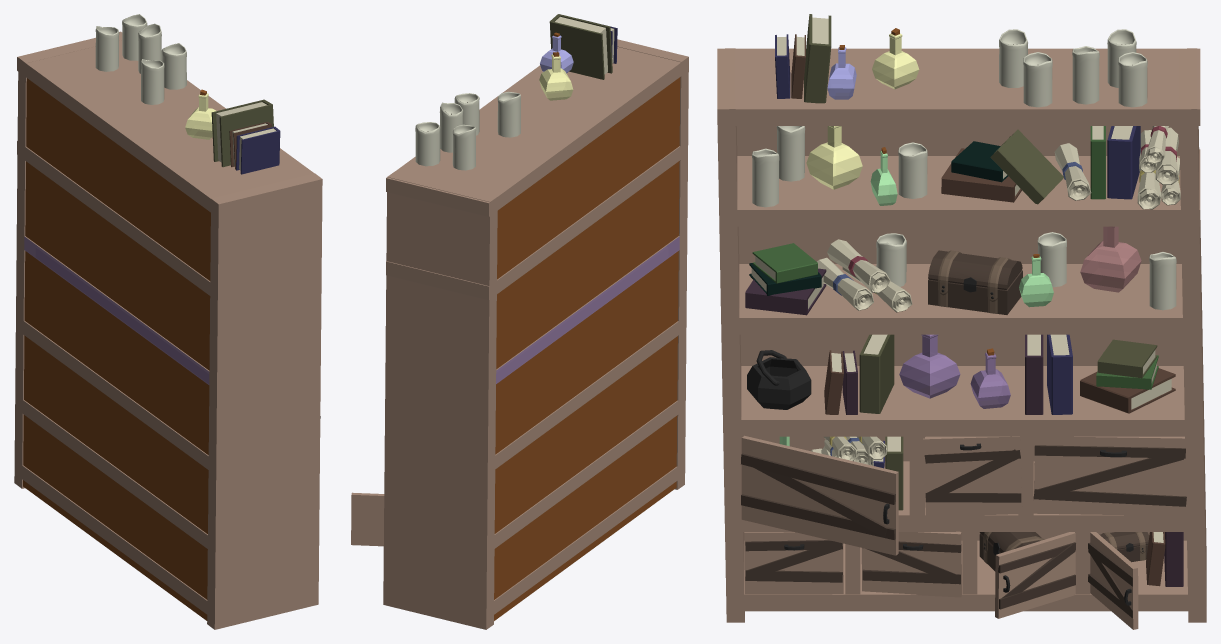
File: tallBookShelf.fbx
3 renders of one model, left to right at view 1: azimuth 30°, elevation 25°; view 2: azimuth 150°, elevation 25°; view 3: azimuth 270°, elevation 25°, orthographic. The views are drawn at different scales.
Parts seen in each view (by area): view 1: pCube16, book6, book5, candle18, candle17, candle1, potion14, candle2, candle3, book7; view 2: pCube16, book6, candle3, candle18, candle1, potion14, candle2, candle17, potion13; view 3: pCube16, chest3, scrollBundle4, cauldron, book8, potion5, book18, potion15, polySurface1361, potion7, book6, book23 (+38 smaller).
Boxes of the visible parts, left/top/right/bottom form: pCube16: left=14, top=31, right=322, bottom=629; book6: left=211, top=99, right=273, bottom=167; book5: left=236, top=126, right=280, bottom=174; candle18: left=141, top=59, right=164, bottom=104; candle17: left=161, top=43, right=186, bottom=89; candle1: left=95, top=26, right=119, bottom=71; potion14: left=185, top=89, right=216, bottom=139; candle2: left=138, top=23, right=161, bottom=73; candle3: left=122, top=14, right=147, bottom=60; book7: left=229, top=122, right=271, bottom=169; pCube16: left=351, top=39, right=688, bottom=629; book6: left=549, top=14, right=612, bottom=79; candle3: left=415, top=122, right=440, bottom=166; candle18: left=497, top=91, right=520, bottom=137; candle1: left=452, top=124, right=476, bottom=170; potion14: left=539, top=52, right=573, bottom=100; candle2: left=439, top=102, right=463, bottom=152; candle17: left=454, top=93, right=479, bottom=135; potion13: left=540, top=32, right=573, bottom=73; pCube16: left=717, top=48, right=1206, bottom=629; chest3: left=928, top=250, right=1022, bottom=314; scrollBundle4: left=817, top=239, right=912, bottom=312; cauldron: left=747, top=350, right=811, bottom=409; book8: left=990, top=129, right=1064, bottom=204; potion5: left=1080, top=226, right=1141, bottom=292; book18: left=859, top=334, right=894, bottom=413; potion15: left=899, top=334, right=960, bottom=398; polySurface1361: left=1107, top=126, right=1140, bottom=199; potion7: left=806, top=126, right=862, bottom=189; book6: left=804, top=14, right=831, bottom=103; book23: left=1080, top=368, right=1175, bottom=413.
Bounding box in the file's own units: 3.61 × 9.53 × 7.4.
